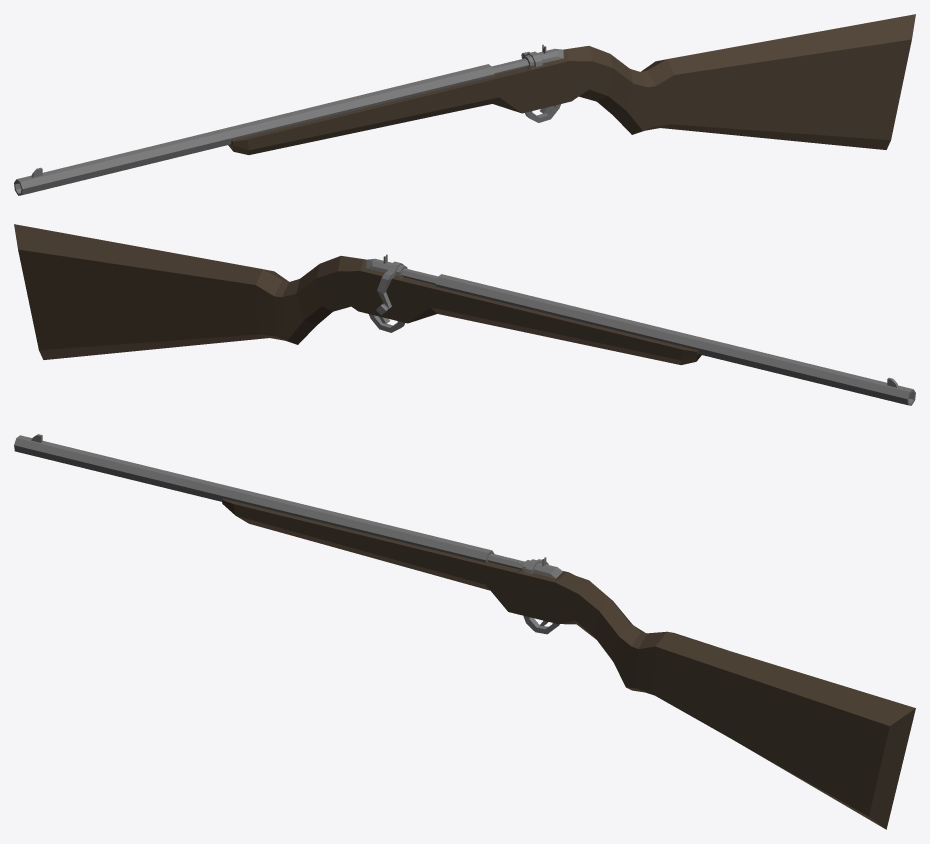
The model's file is Rifle.fbx.
3 renders of one model, top to bottom at view 1: azimuth 30°, elevation 25°; view 2: azimuth 150°, elevation 25°; view 3: azimuth 330°, elevation 25°, orthographic.
Visible parts, largest first — view 1: RifleModel; view 2: RifleModel; view 3: RifleModel.
Part boxes in pixels (x1=…): RifleModel: x1=14, y1=14, x2=915, y2=195; RifleModel: x1=14, y1=224, x2=915, y2=405; RifleModel: x1=14, y1=434, x2=915, y2=829.
Bounding box in the file's own units: 117 × 23.43 × 5.83.
